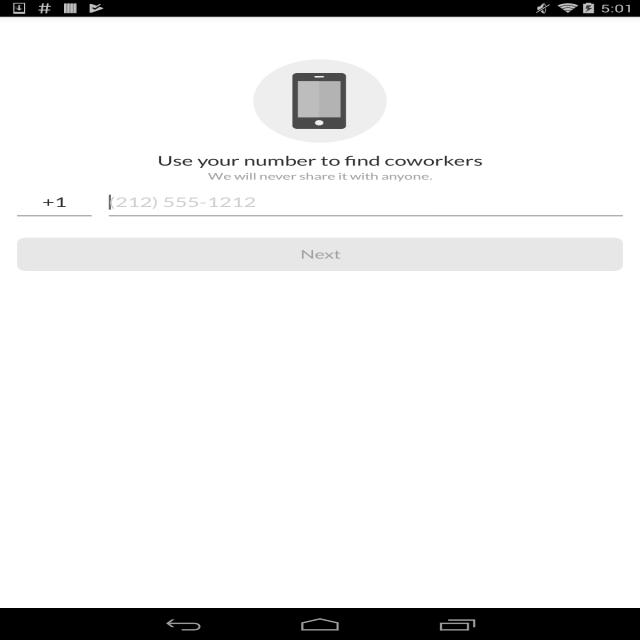Button: (6, 235, 628, 276)
EditText: (99, 190, 626, 223)
ImageView: (255, 60, 390, 144)
TextView: (153, 152, 504, 178)
